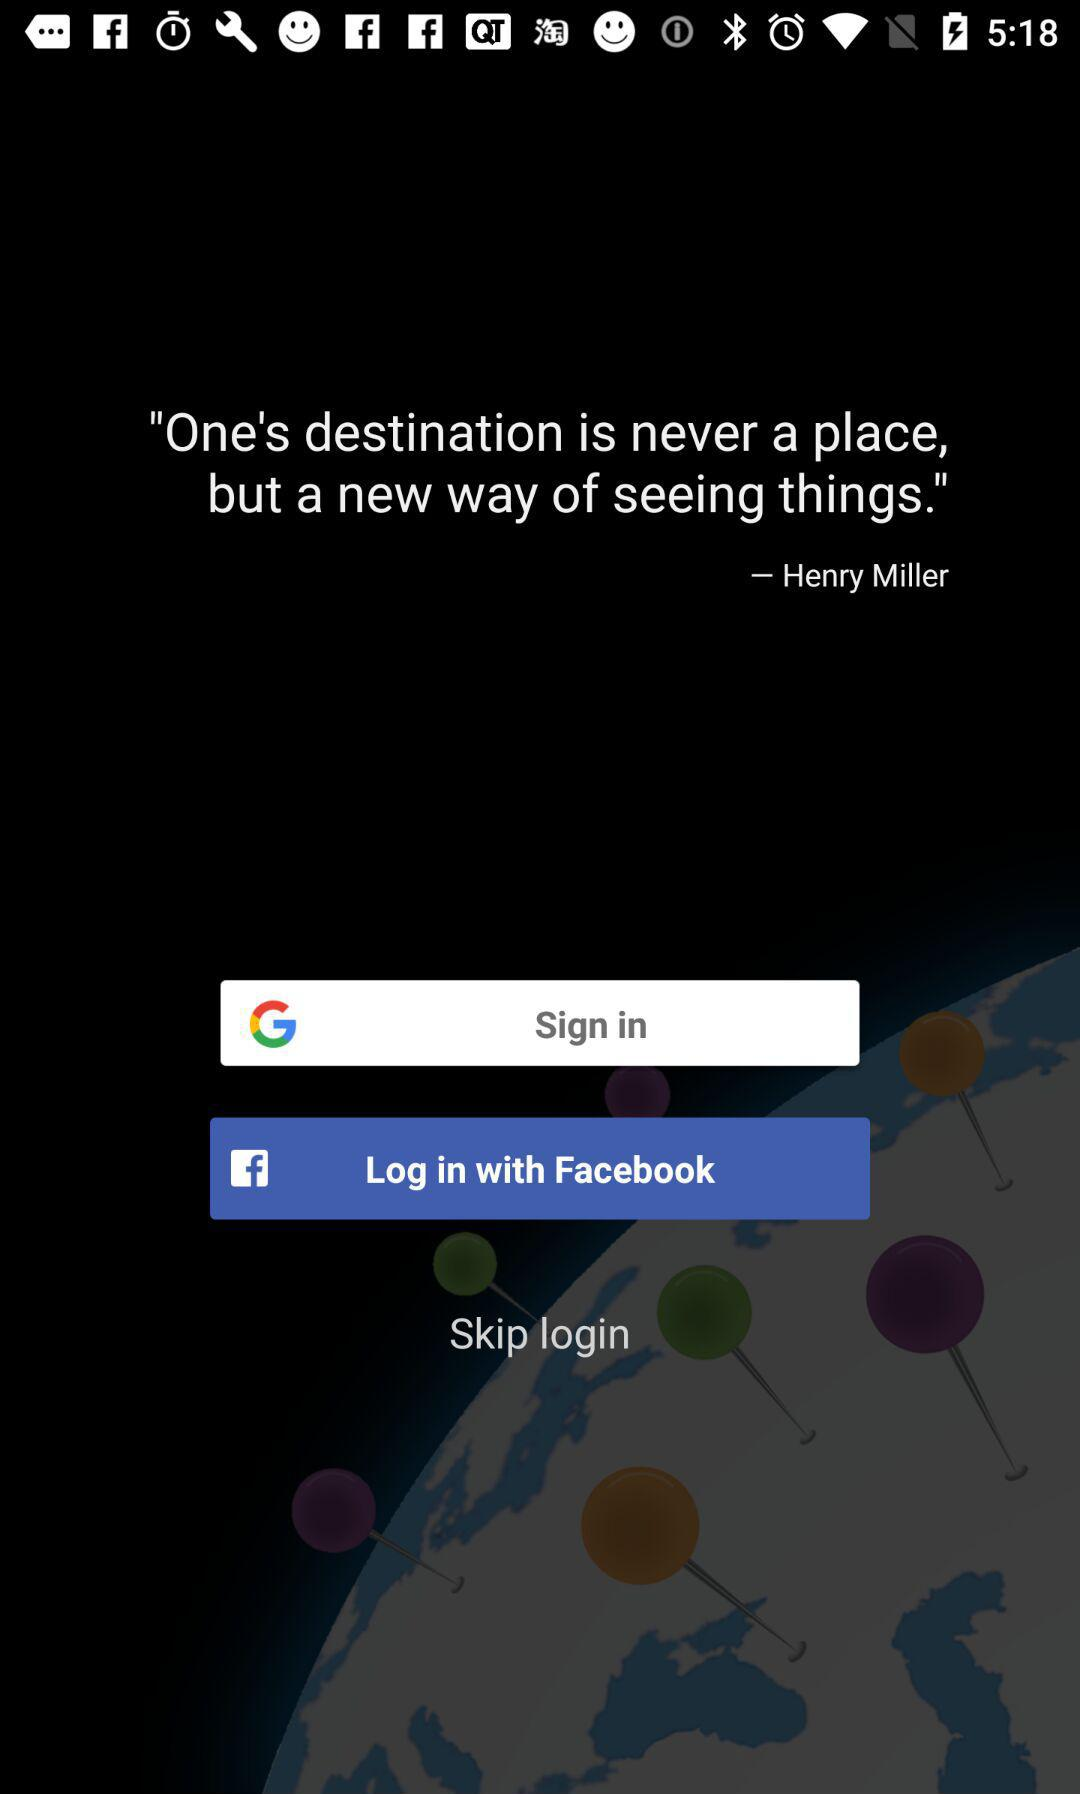BackgroundImage: (1, 54, 1080, 1794)
Text: (149, 409, 951, 527), (450, 1316, 630, 1360), (749, 561, 951, 596)
TextButton: (211, 1117, 871, 1220), (222, 980, 860, 1067)
UpperTaskBar: (1, 1, 1080, 54)
